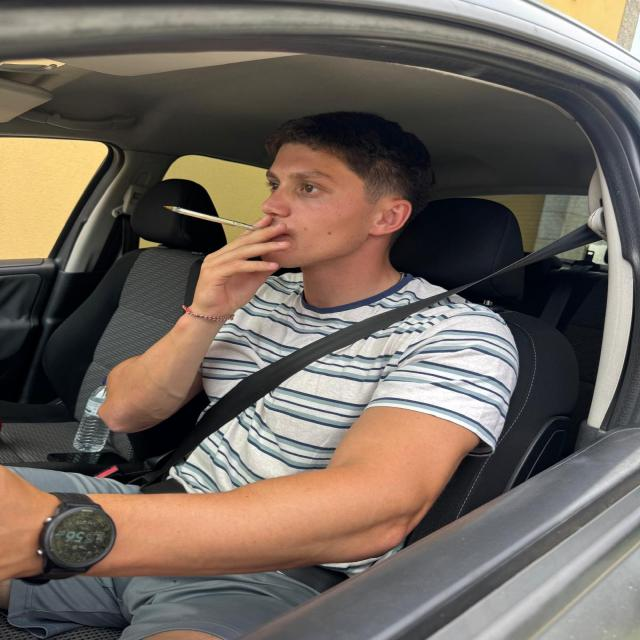Cigarette: (160, 203, 267, 236)
Seatbelt: (129, 195, 600, 491)
